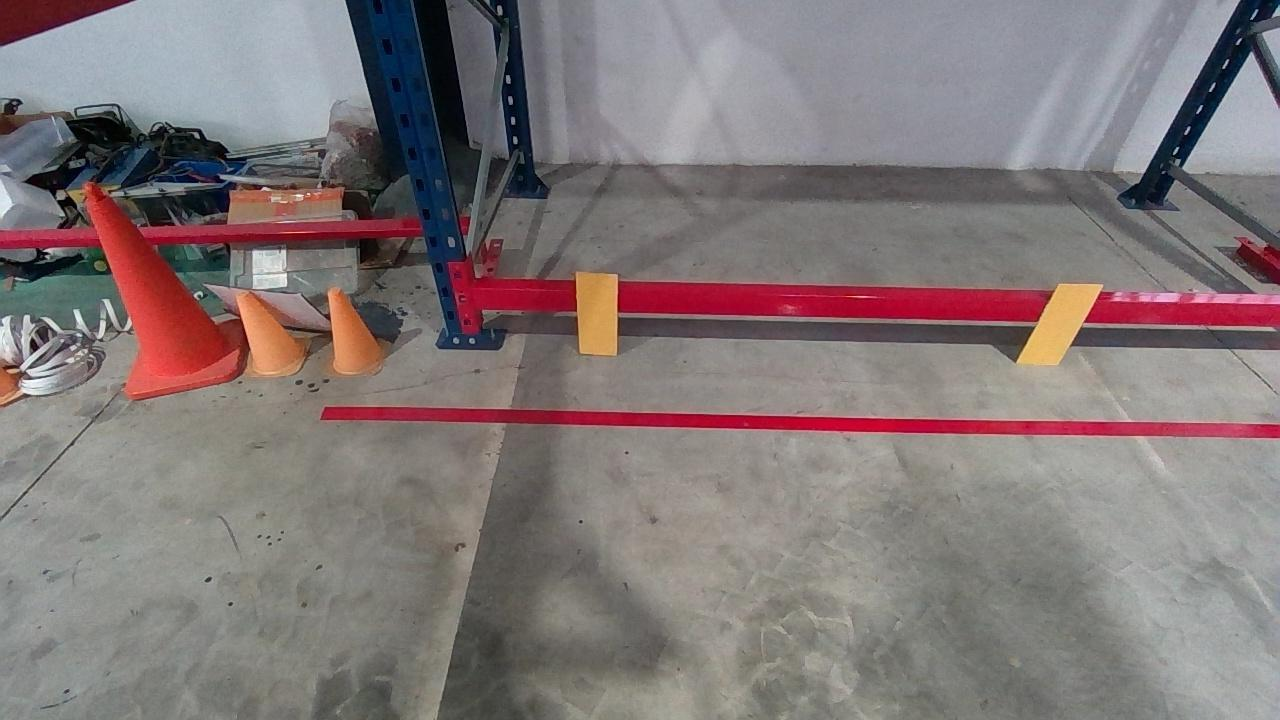h_rack: (472, 288, 1270, 326)
orange_strip: (1017, 281, 1108, 366), (575, 271, 619, 353)
red_line: (320, 406, 1277, 437)
